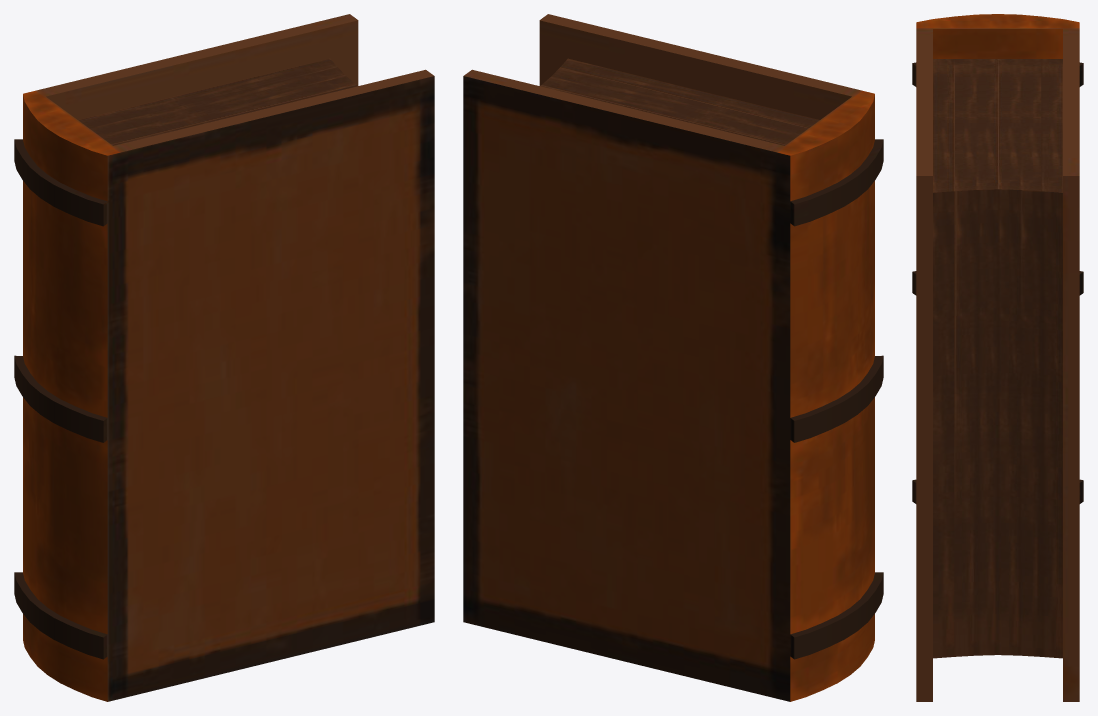
Rendered from Livingroom_book.fbx.
The picture shows the model from 3 angles, left to right: view 1: azimuth 30°, elevation 25°; view 2: azimuth 150°, elevation 25°; view 3: azimuth 270°, elevation 25°; orthographic projection. The views are drawn at different scales.
Visible parts, largest first — view 1: polySurface82; view 2: polySurface82; view 3: polySurface82.
Boxes of the visible parts, bbox=[...] form: polySurface82: bbox=[14, 14, 434, 701]; polySurface82: bbox=[463, 14, 883, 701]; polySurface82: bbox=[912, 14, 1083, 701].
Size of the model in its own units: 0.00794 by 0.0118 by 0.00348.
